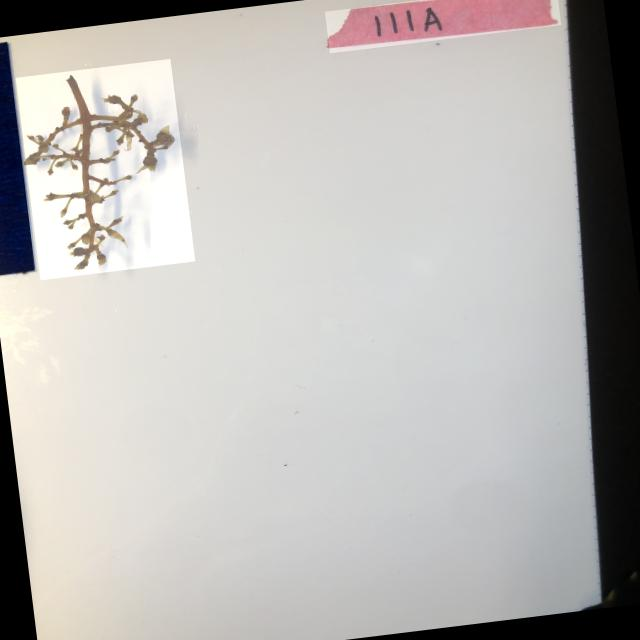index: (324, 0, 560, 53)
measure_label: (0, 41, 35, 277)
rachis_cluster: (15, 58, 195, 280)
